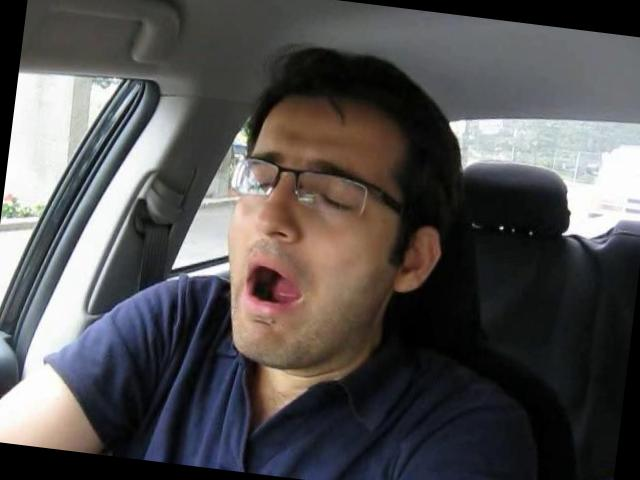eye_closed: (311, 188, 364, 216), (240, 168, 280, 199)
face: (215, 131, 384, 354)
mouth_open: (234, 251, 310, 316)
